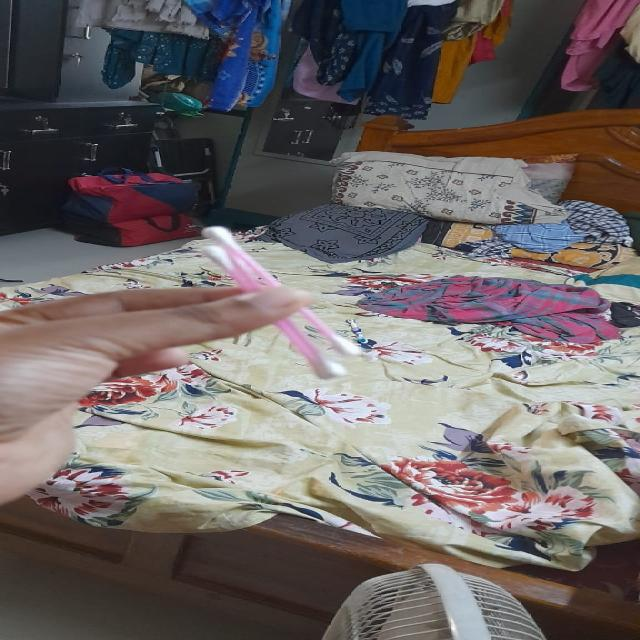Earbud - Non Recyclable: (190, 224, 358, 380)
